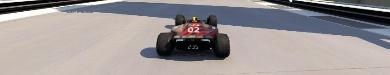Car: (155, 14, 230, 57)
